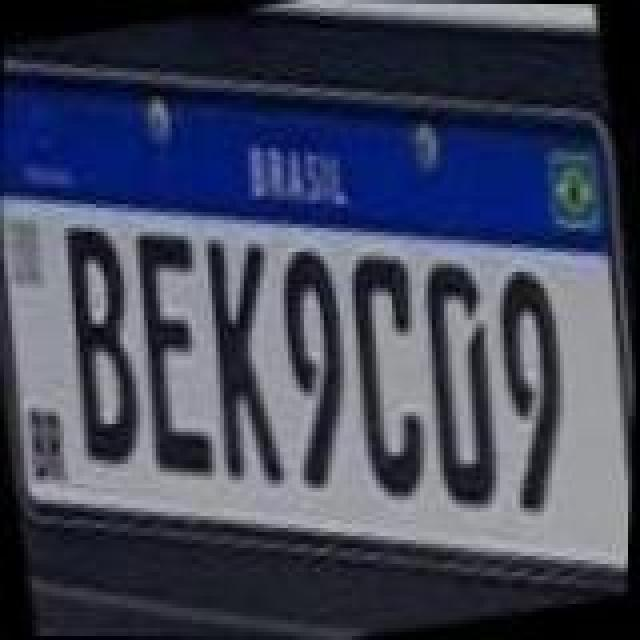9: (478, 264, 590, 520), (266, 242, 374, 494)
B: (42, 220, 158, 476)
C: (332, 250, 452, 506)
D: (404, 258, 520, 514)
E: (118, 228, 234, 488)
K: (188, 226, 308, 490)
